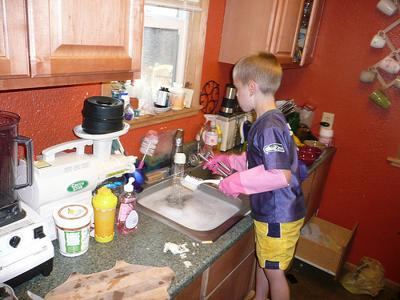person: (202, 51, 310, 300)
